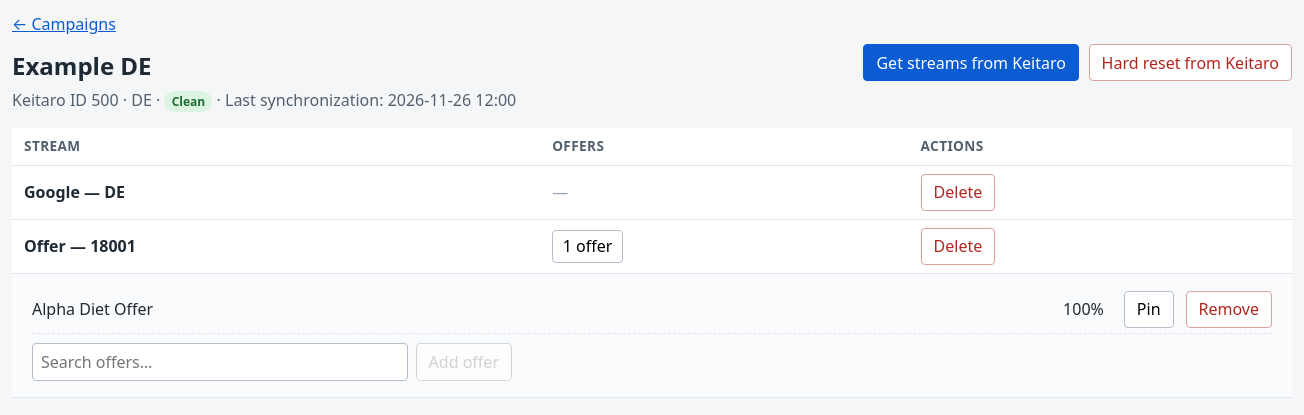
Test case: CampaignEditorPage — streams table › deletes a stream through the draft API and renders the authoritative result
Expected: the text "Google — DE" is shown, [24, 181, 125, 203]
Click the button "Delete" in the row of "Google — DE".
click(958, 192)  # box [921, 174, 995, 211]
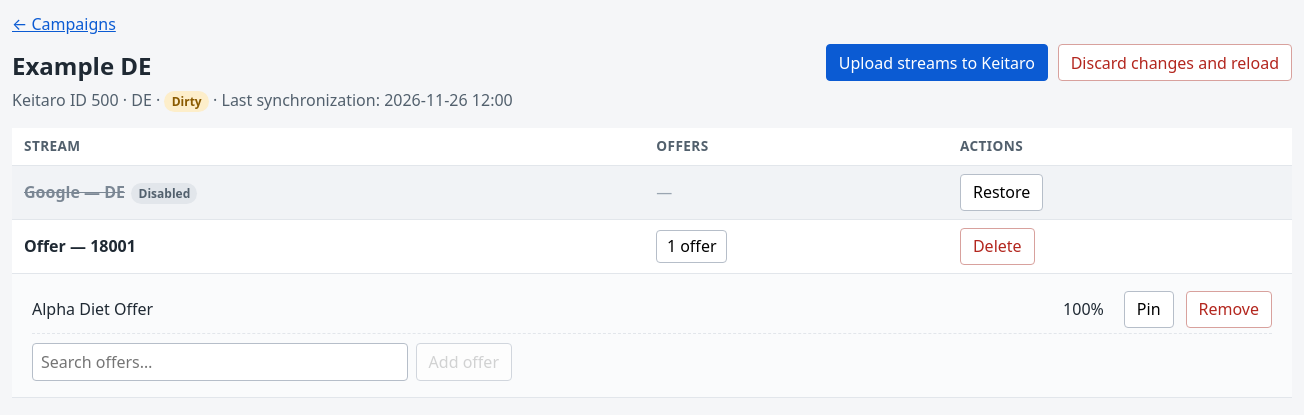
Expected: the text "Google — DE" is shown, [24, 181, 125, 203]
Expected: the button "Upload streams to Keitaro" is shown, [826, 44, 1048, 81]
Expected: the text "Disabled" is shown, [131, 183, 198, 204]
